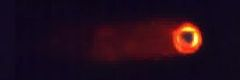keyhole: (181, 30, 197, 47)
